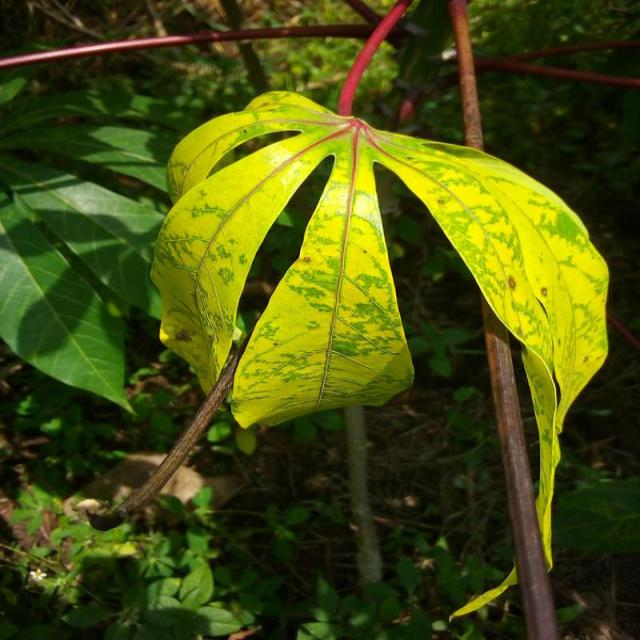cassava leaf: (148, 87, 610, 582)
